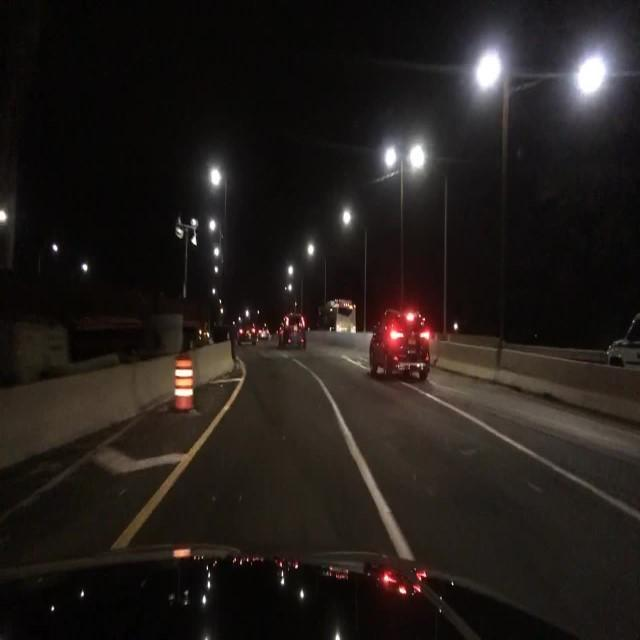normal: (366, 308, 430, 381), (263, 300, 331, 365), (607, 317, 640, 368)
